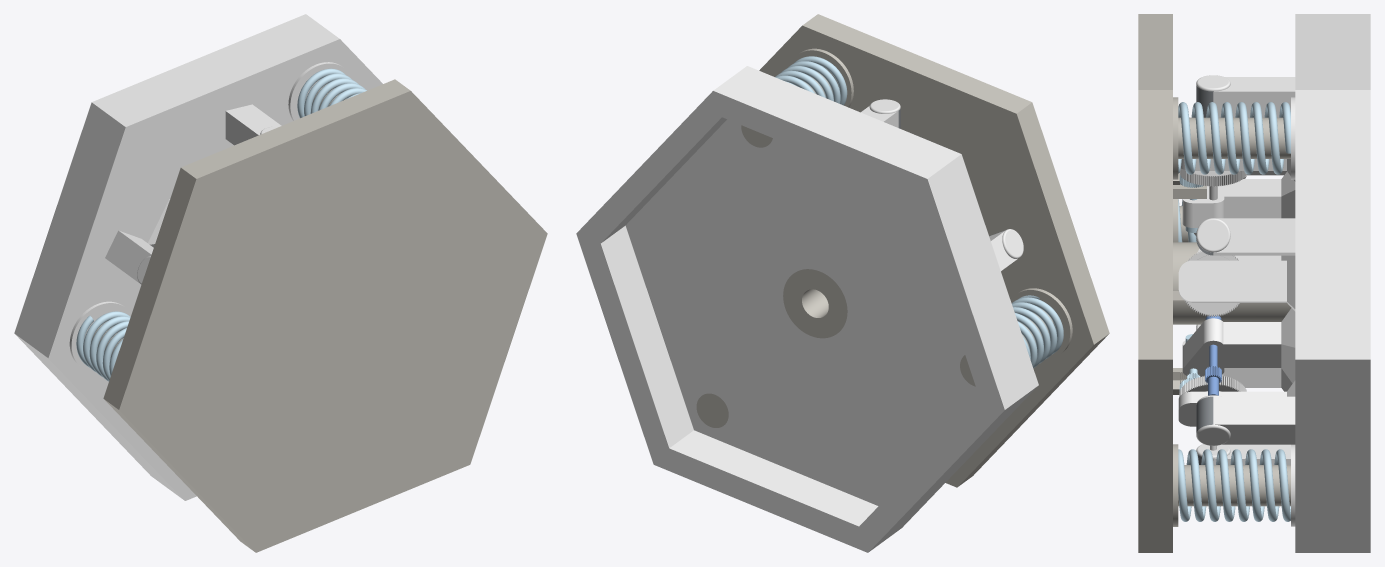
File: StepGenerator.glb
The picture shows the model from 3 angles, left to right: view 1: azimuth 30°, elevation 25°; view 2: azimuth 150°, elevation 25°; view 3: azimuth 270°, elevation 25°; orthographic projection. The views are drawn at different scales.
Parts seen in each view (by area): view 1: PLATFORM+RACK, Part 22, Part 47, SPRING; view 2: Part 22, PLATFORM+RACK, Part 47, SPRING; view 3: Part 22, PLATFORM+RACK, Part 49, SPRING, Part 43, Part 39, Spur gear (97 teeth), Part 33, Part 34, Part 37, Part 36, GEN3 (+1 smaller).
Boxes of the visible parts, bbox=[...] form: PLATFORM+RACK: bbox=[91, 79, 547, 552]; Part 22: bbox=[14, 14, 382, 500]; Part 47: bbox=[76, 311, 130, 381]; SPRING: bbox=[297, 68, 366, 118]; Part 22: bbox=[576, 66, 1038, 552]; PLATFORM+RACK: bbox=[696, 14, 1109, 487]; Part 47: bbox=[1011, 295, 1063, 367]; SPRING: bbox=[775, 56, 847, 105]; Part 22: bbox=[1178, 14, 1370, 552]; PLATFORM+RACK: bbox=[1138, 14, 1291, 552]; Part 49: bbox=[1178, 449, 1290, 521]; SPRING: bbox=[1178, 102, 1290, 174]; Part 43: bbox=[1196, 218, 1230, 252]; Part 39: bbox=[1184, 251, 1240, 316]; Spur gear (97 teeth): bbox=[1179, 168, 1246, 186]; Part 33: bbox=[1179, 375, 1246, 396]; Part 34: bbox=[1205, 315, 1221, 395]; Part 37: bbox=[1196, 424, 1230, 445]; Part 36: bbox=[1196, 396, 1213, 432]; GEN3: bbox=[1196, 75, 1230, 91].
Size of the model in its own units: 0.399 by 0.3776 by 0.1692.
